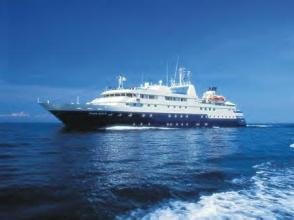youlun: (46, 69, 247, 128)
